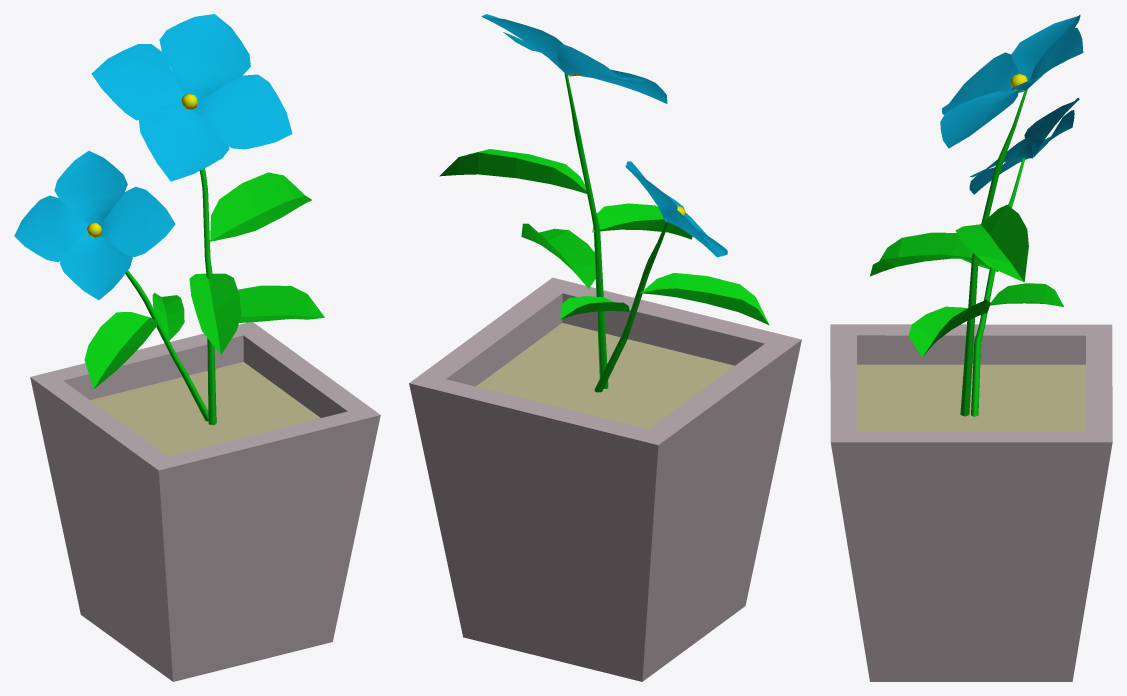
The model's file is 鉢植え.fbx.
3 renders of one model, left to right at view 1: azimuth 30°, elevation 25°; view 2: azimuth 150°, elevation 25°; view 3: azimuth 270°, elevation 25°, orthographic. The views are drawn at different scales.
Parts seen in each view (by area): view 1: 鉢植え; view 2: 鉢植え; view 3: 鉢植え.
Part boxes in pixels (x1,y1,x2,y2): 鉢植え: [14, 14, 380, 681]; 鉢植え: [409, 14, 801, 681]; 鉢植え: [830, 14, 1112, 681].
Bounding box in the file's own units: 4.43 × 8.88 × 3.65.
